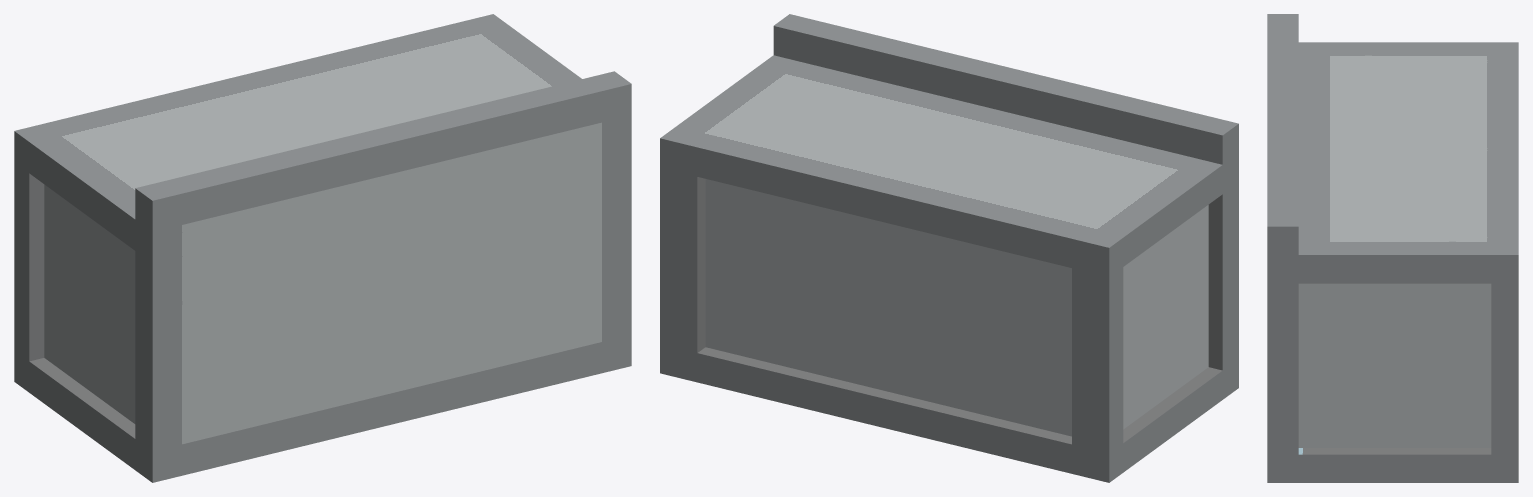
Rendered from prep_station.gltf.
3 views of the same model, side by side, from view 1: azimuth 30°, elevation 25°; view 2: azimuth 150°, elevation 25°; view 3: azimuth 270°, elevation 25° (orthographic). The views are drawn at different scales.
Parts seen in each view (by area): view 1: cuboid; view 2: cuboid; view 3: cuboid.
Boxes of the visible parts, left/top/right/bottom form: cuboid: left=14, top=14, right=631, bottom=482; cuboid: left=660, top=14, right=1238, bottom=482; cuboid: left=1267, top=14, right=1518, bottom=482.
Size of the model in its own units: 1 by 0.5625 by 0.5.
1 material, 1 textured.
